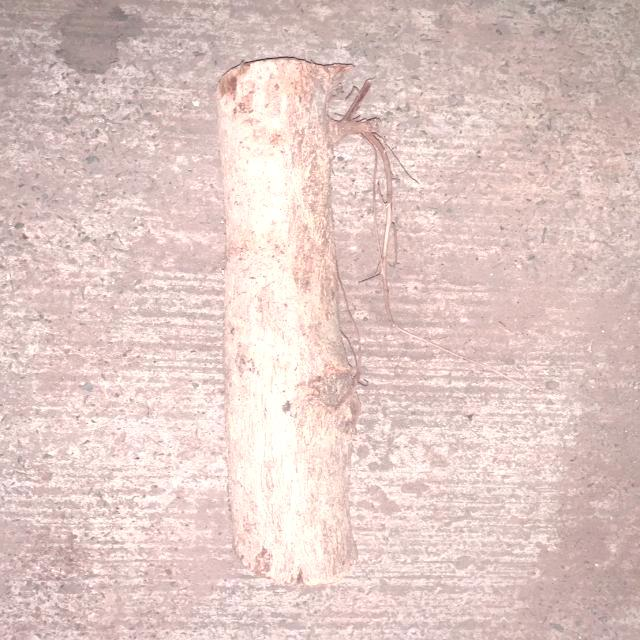General: (212, 54, 402, 587)
